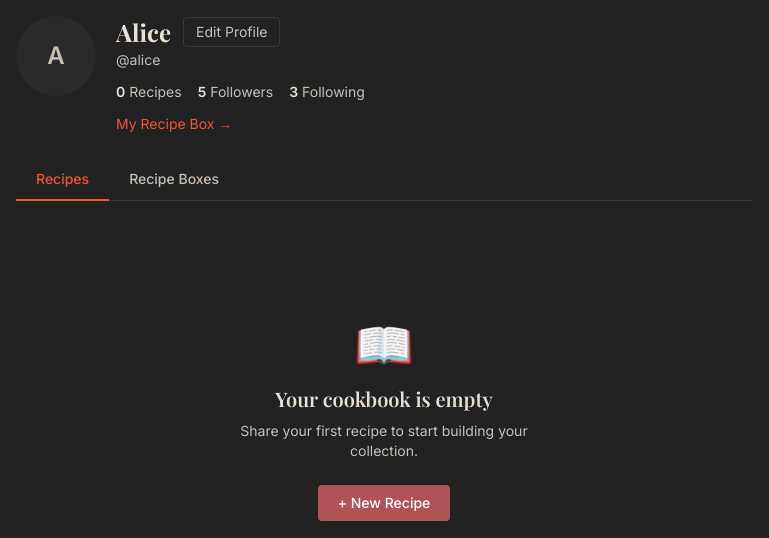
Test case: UserProfilePage — boxes tab › shows empty state when no boxes
Expected: the heading "Alice" is shown, [116, 16, 171, 48]
Click the button "Recipe Boxes" at (174, 180), box [109, 159, 239, 201]
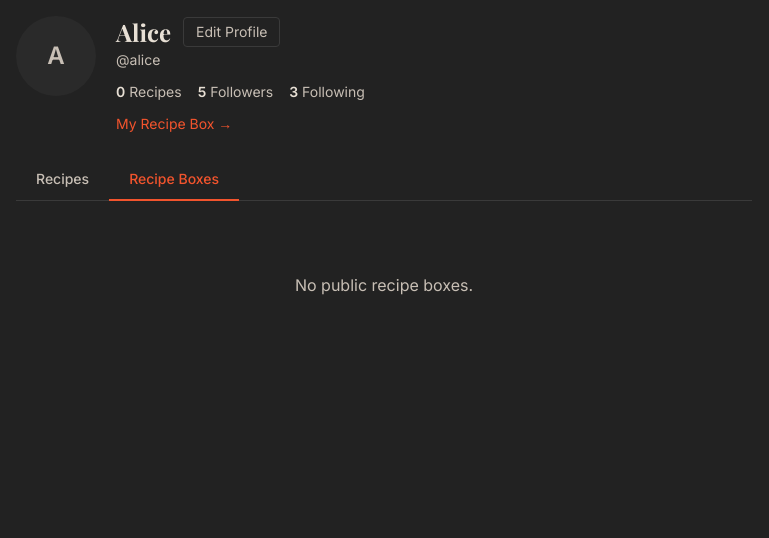
Result: the text "No public recipe boxes." is shown at [295, 275, 473, 295]
